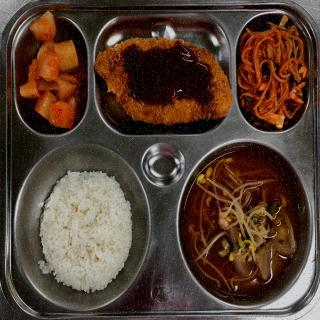Nasi: (37, 172, 133, 293)
